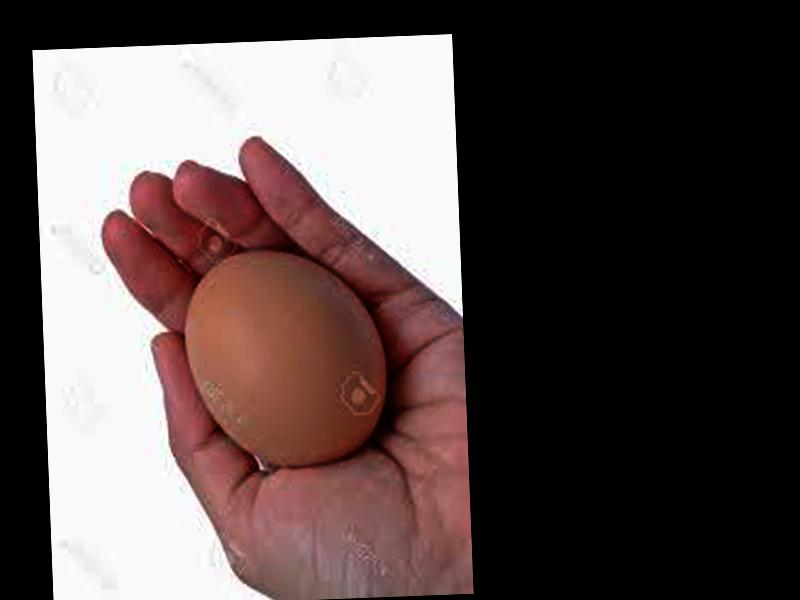Eggs: (181, 244, 388, 472)
